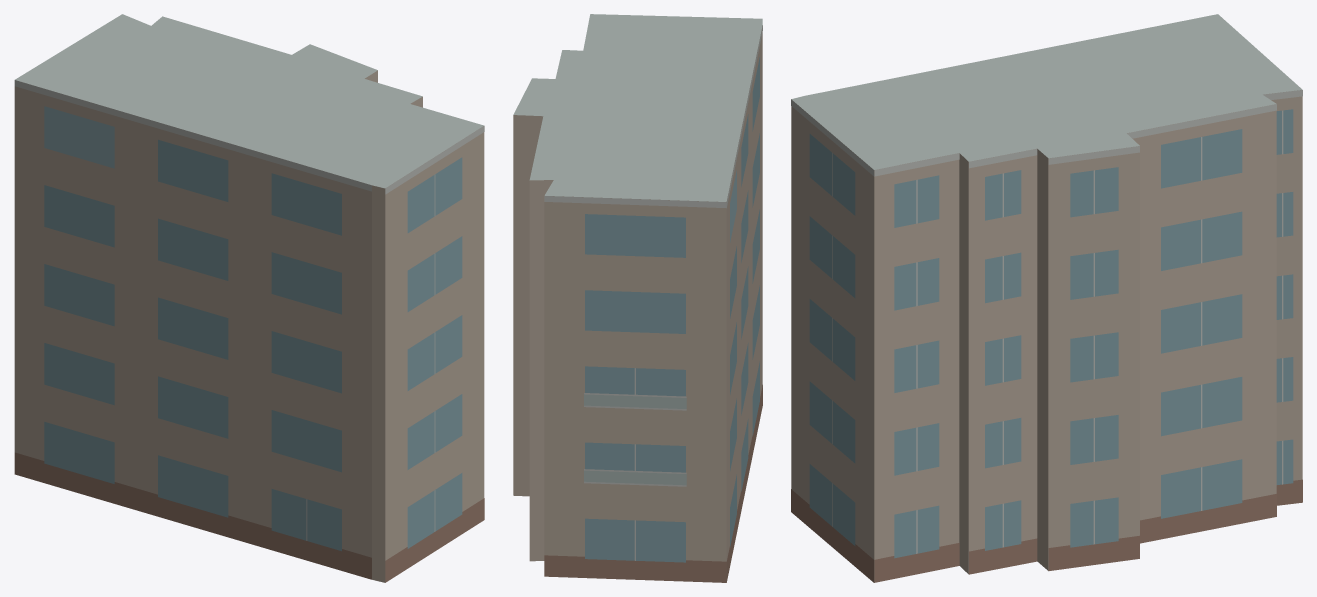
Rendered from survey-upis-33012454.glb.
3 renders of one model, left to right at view 1: azimuth 30°, elevation 25°; view 2: azimuth 150°, elevation 25°; view 3: azimuth 270°, elevation 25°, orthographic. The views are drawn at different scales.
Visible parts, largest first — view 1: survey-upis-33012454.tmp; view 2: survey-upis-33012454.tmp; view 3: survey-upis-33012454.tmp.
Part boxes in pixels (<box>): survey-upis-33012454.tmp: <box>14,14,484,582</box>; survey-upis-33012454.tmp: <box>513,14,762,582</box>; survey-upis-33012454.tmp: <box>791,14,1302,582</box>.
Bounding box in the file's own units: 12.37 × 15.25 × 17.14.
